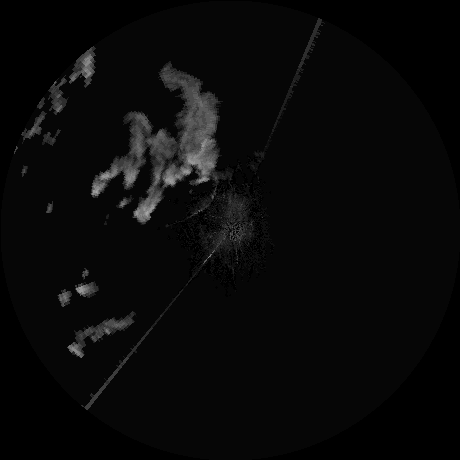frontgust: (190, 174, 216, 218)
